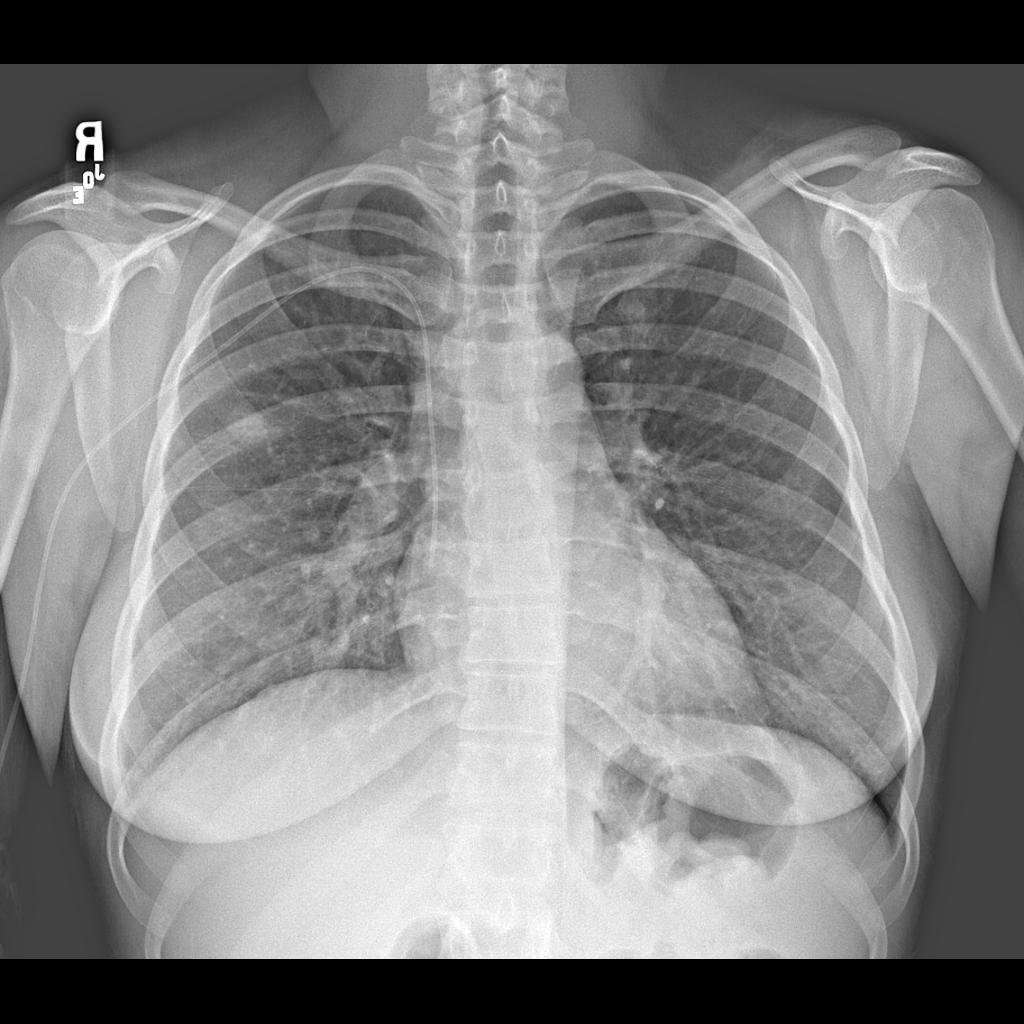Nodule: (224, 403, 284, 452)
